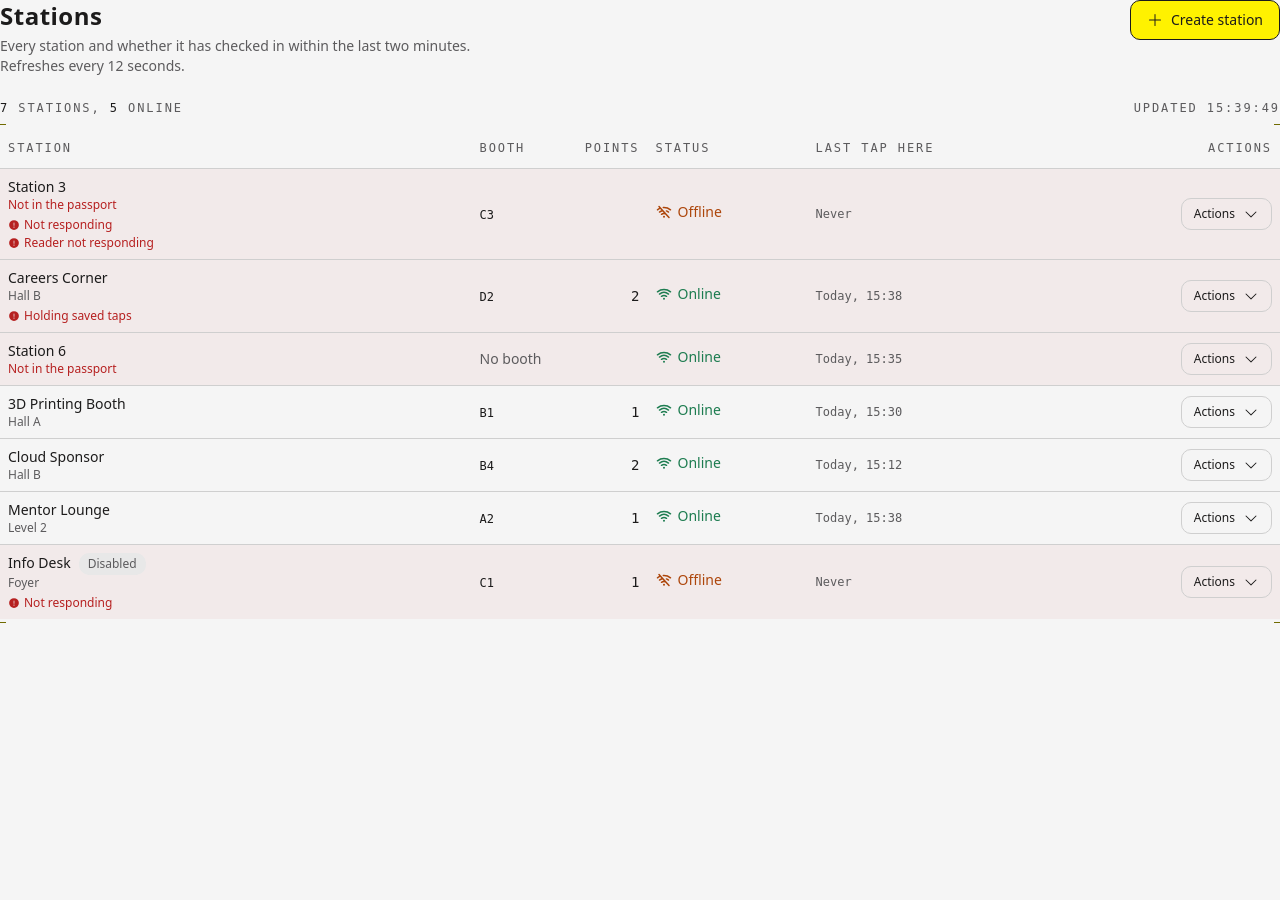
Scenario: StationsScreen › puts a station added through the dialog on the board, not in the passport
Click the button "Create station": click(1205, 20) [1130, 0, 1279, 40]
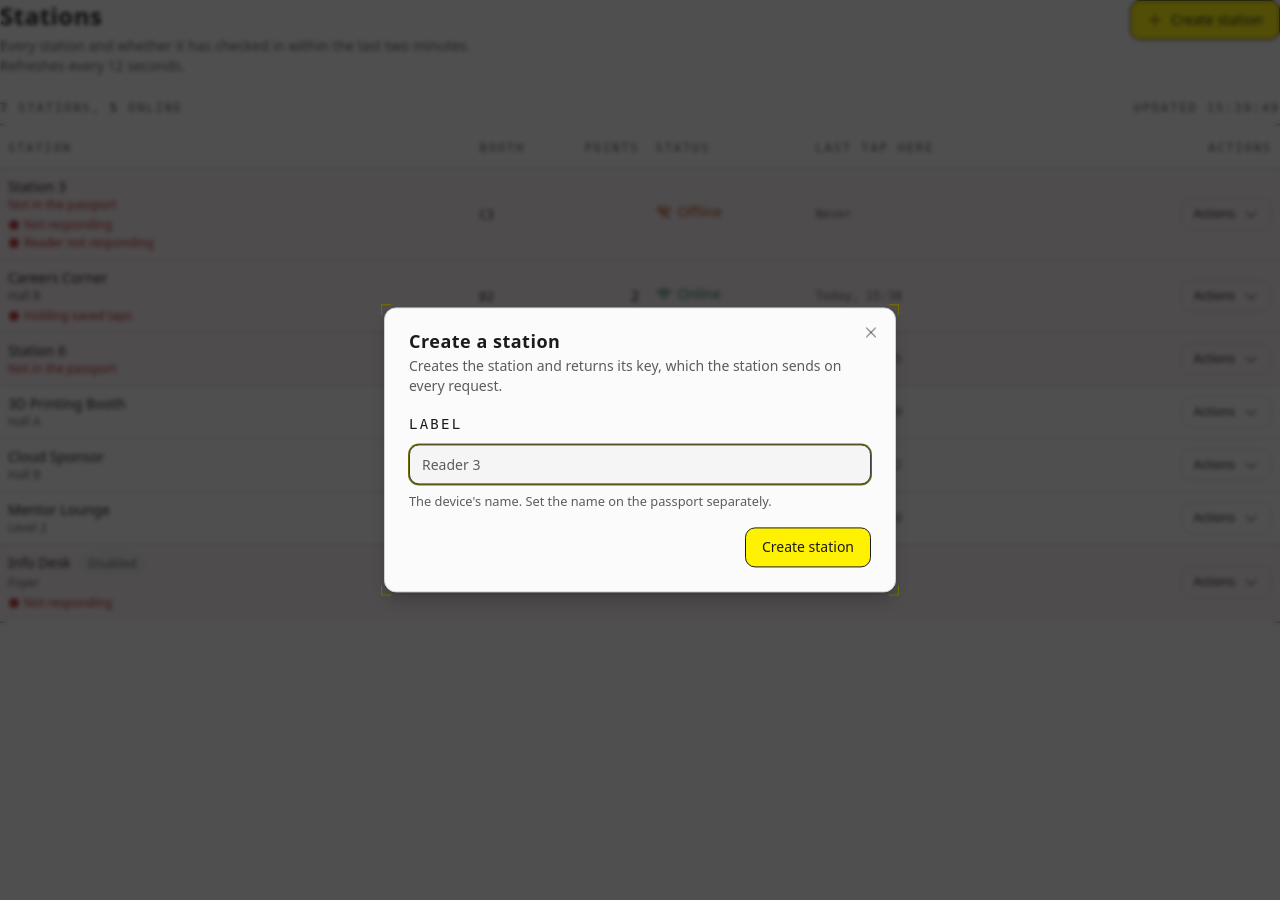
In the field labelled "Label": (640, 464) [409, 444, 871, 484], type "Reader 9"
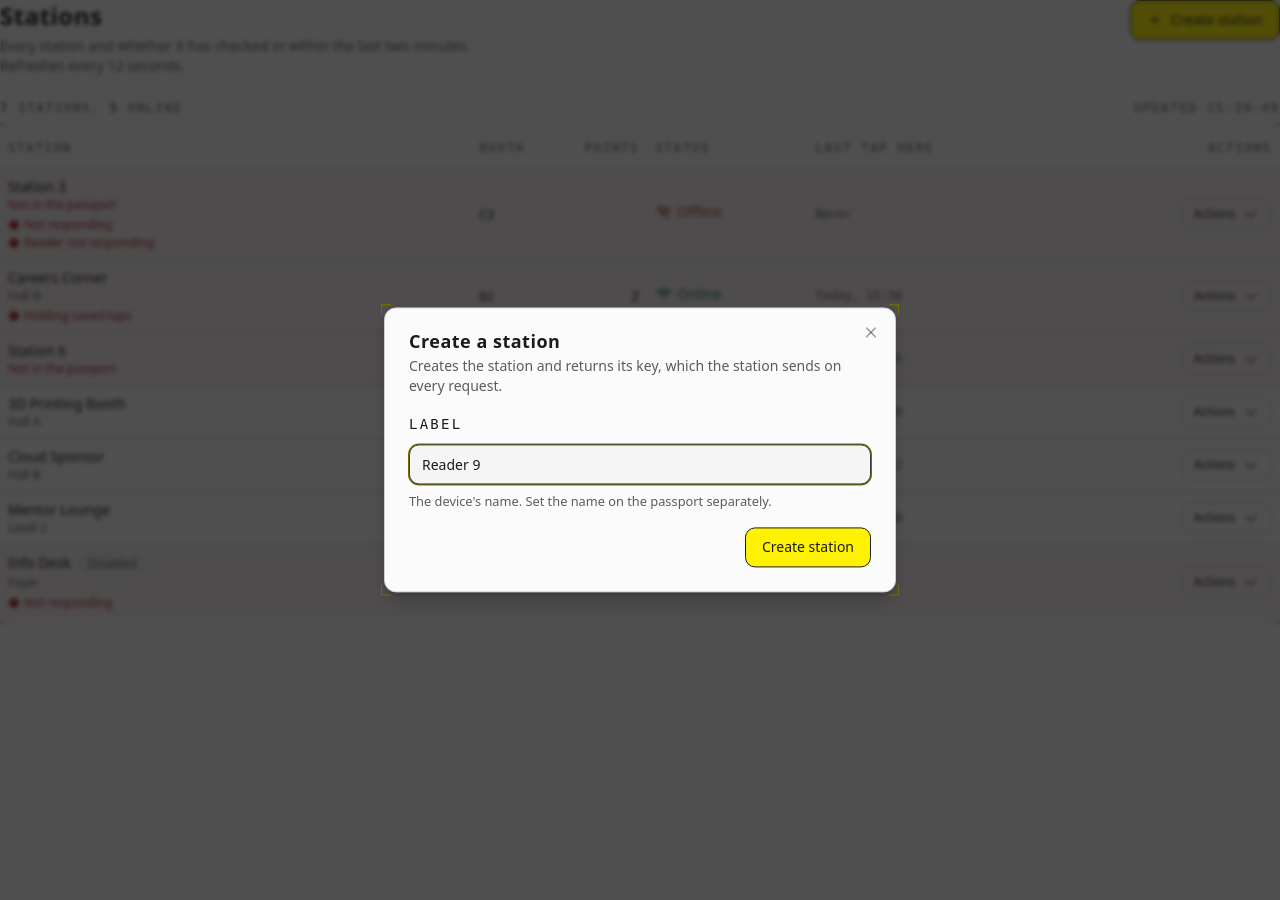
Click the button "Create station": click(808, 548) [745, 528, 871, 568]
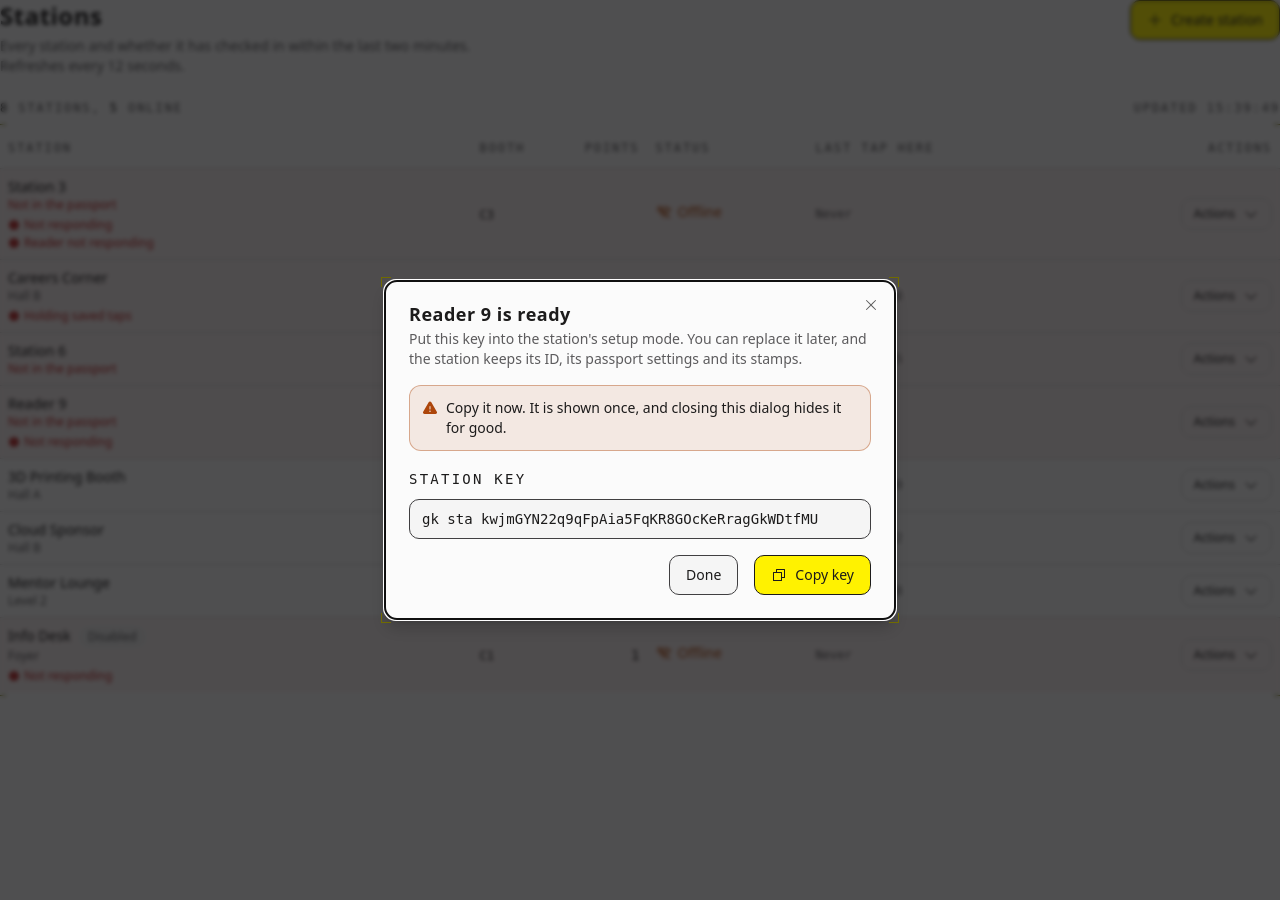
Click the button "Done": click(704, 575) [669, 555, 738, 595]
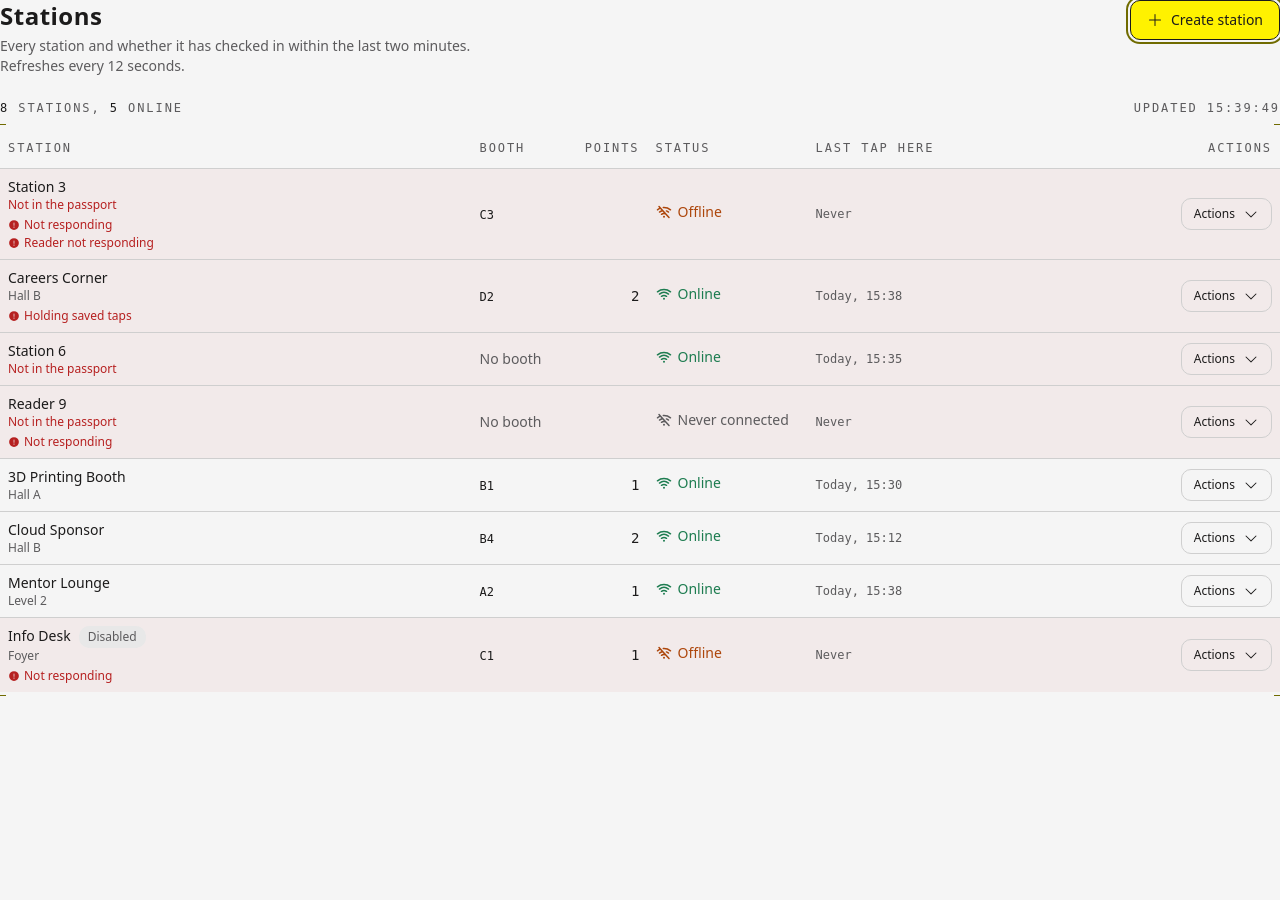
Now the row that starts with "Reader 9" is shown, box [0, 385, 1279, 458]
Now the row that starts with "Reader 9" shows "Not in the passport", box [8, 412, 117, 430]
Click the button "Actions" in the row of "Reader 9": click(1226, 422) [1181, 406, 1272, 438]
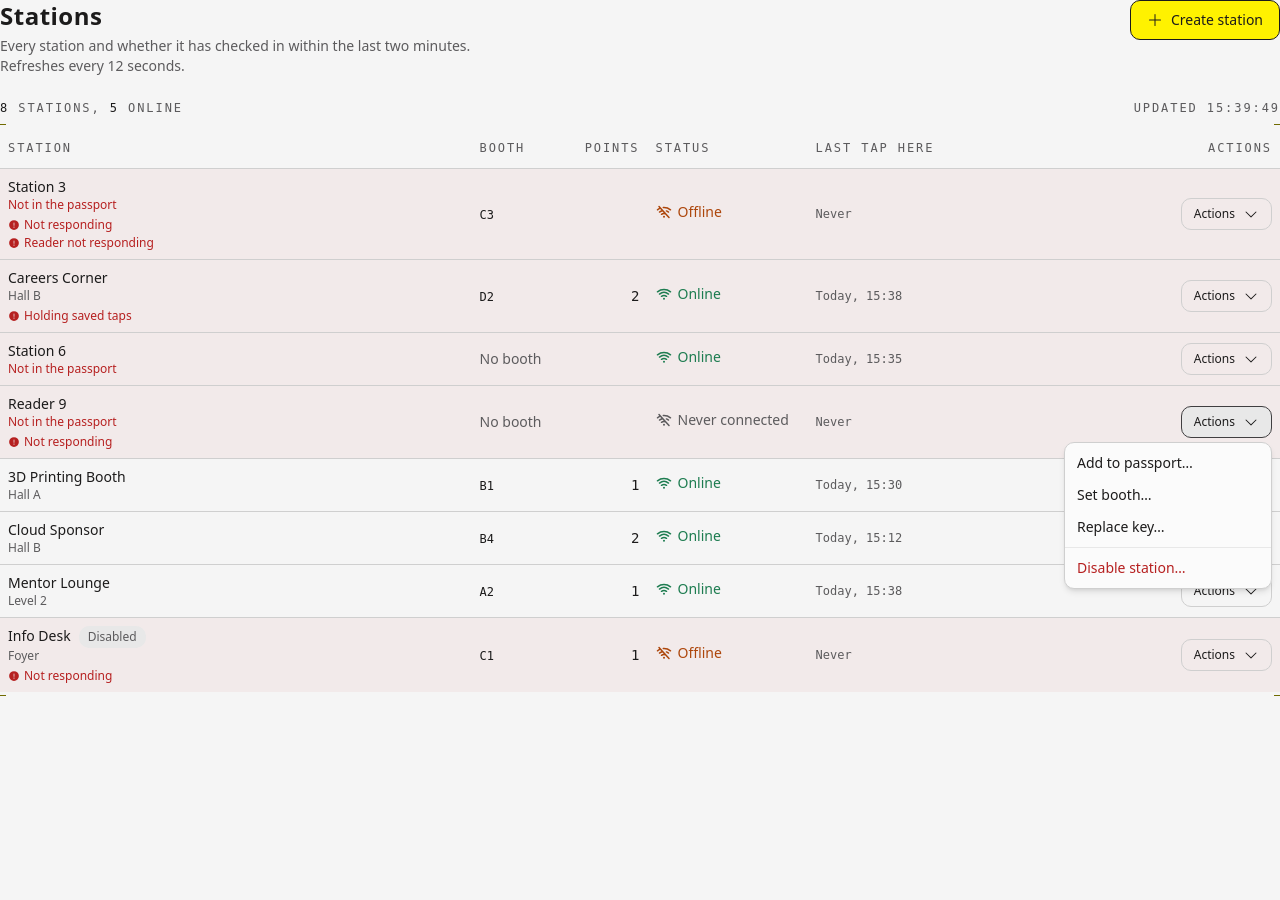
Now the menu is shown, box [1064, 442, 1272, 589]
Now the menu item "Add to passport…" is shown, box [1077, 453, 1193, 472]
